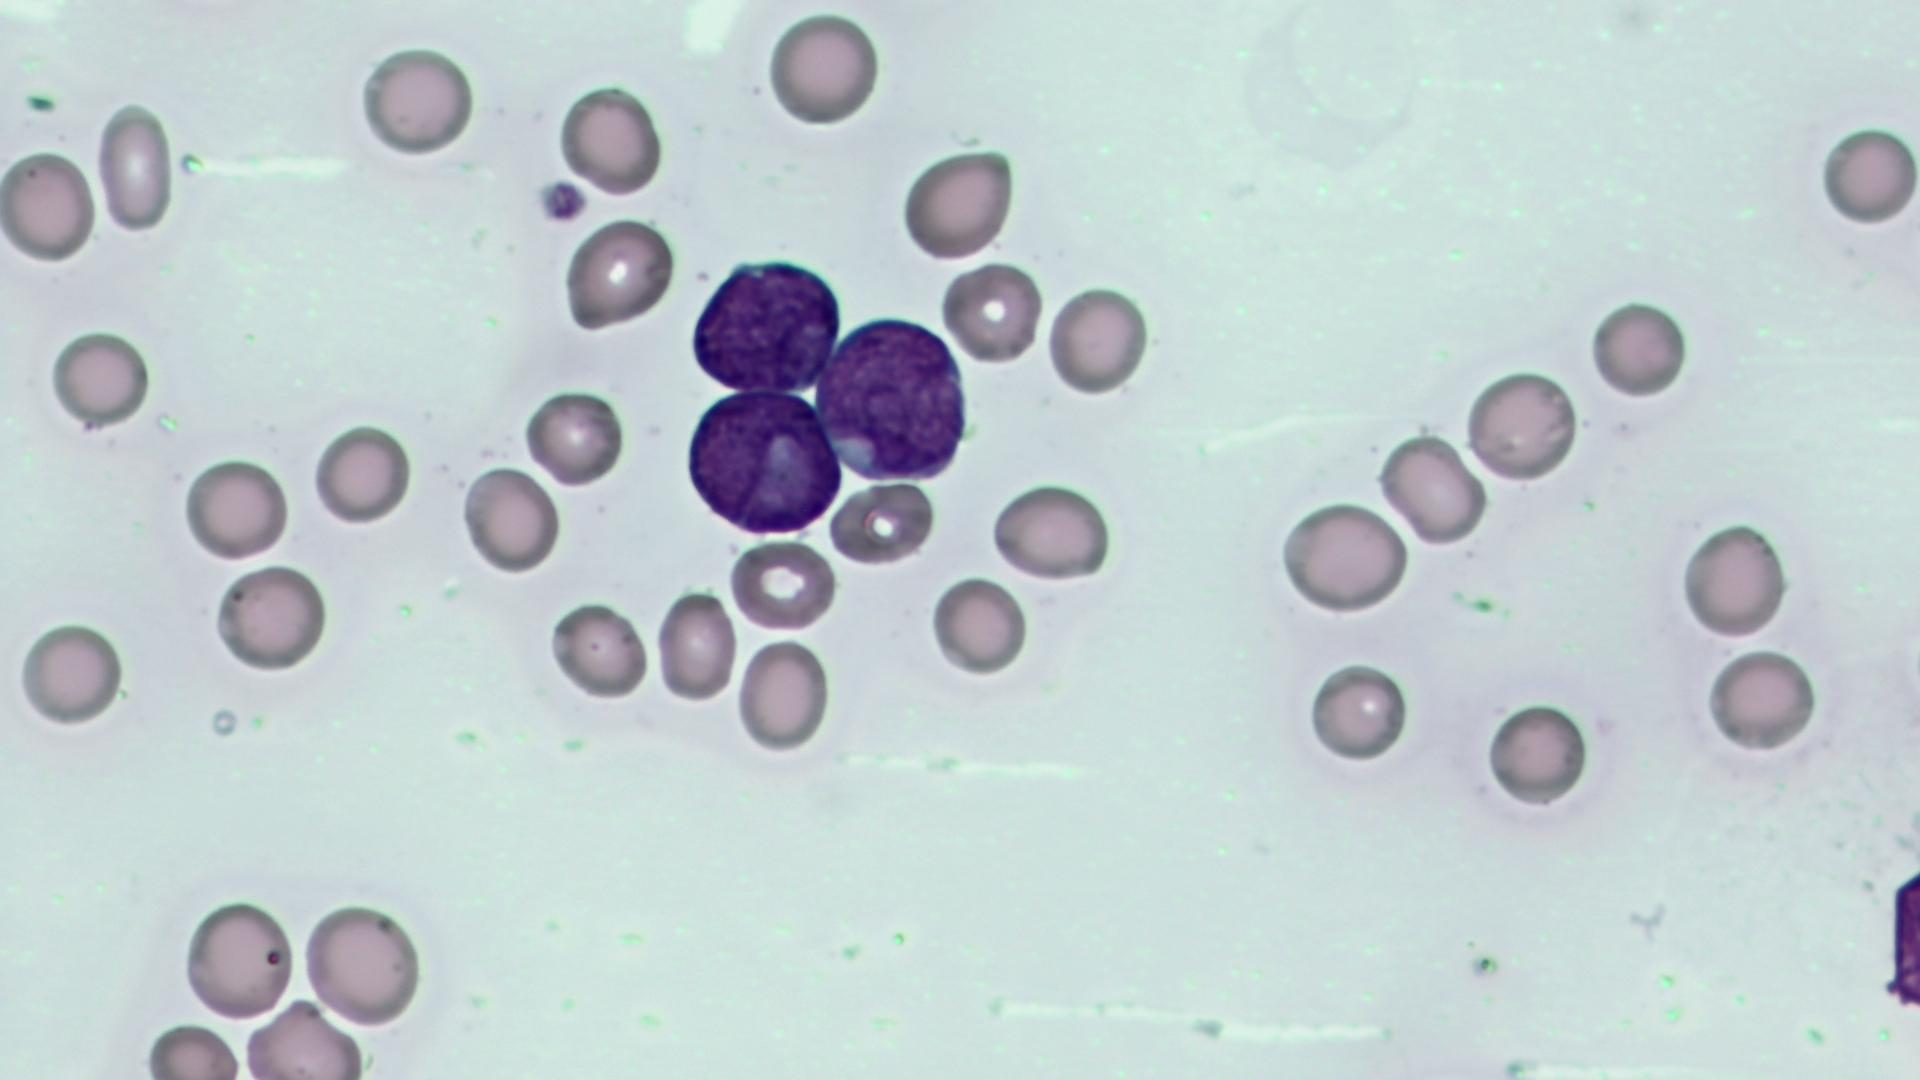Platelets: (533, 175, 589, 227)
RBC: (301, 895, 427, 1031), (1276, 496, 1411, 620), (893, 140, 1021, 266), (356, 37, 479, 165), (764, 5, 885, 135), (181, 891, 297, 1023), (1700, 641, 1826, 760), (1462, 360, 1581, 487), (1676, 516, 1792, 642), (559, 212, 678, 335), (210, 558, 330, 676), (554, 74, 666, 200), (986, 476, 1116, 584), (13, 615, 128, 731), (1046, 278, 1154, 401), (1375, 430, 1486, 549), (179, 451, 293, 566), (1584, 293, 1701, 404), (456, 458, 564, 578), (735, 632, 836, 756), (1302, 655, 1414, 767), (1484, 698, 1594, 810), (46, 323, 156, 436), (1815, 116, 1917, 236), (936, 257, 1044, 368), (4, 141, 98, 269), (310, 417, 414, 530), (725, 533, 839, 636), (94, 98, 177, 236), (546, 597, 651, 705), (521, 385, 628, 491), (928, 574, 1030, 680), (651, 585, 738, 709), (827, 477, 938, 570), (241, 998, 367, 1077), (138, 1018, 249, 1079)
WBC: (812, 307, 978, 493), (680, 385, 851, 539), (688, 252, 855, 404), (1874, 790, 1920, 1054)
